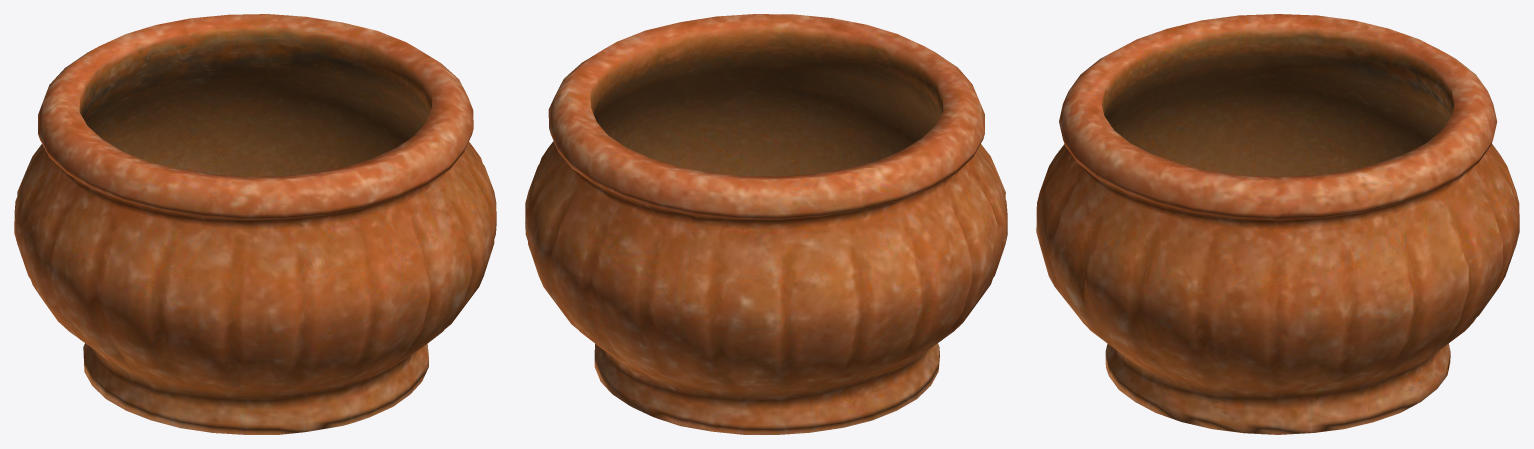
File: terracotta-garden-urn-v1.glb
The picture shows the model from 3 angles, left to right: view 1: azimuth 30°, elevation 25°; view 2: azimuth 150°, elevation 25°; view 3: azimuth 270°, elevation 25°; orthographic projection.
Parts seen in each view (by area): view 1: geometry_0; view 2: geometry_0; view 3: geometry_0.
Part boxes in pixels (left/top/right/bottom): geometry_0: left=14, top=14, right=496, bottom=434; geometry_0: left=525, top=14, right=1007, bottom=434; geometry_0: left=1036, top=14, right=1519, bottom=434.
Bounding box in the file's own units: 0.9507 × 0.5757 × 0.9512.
1 material, 1 textured.
